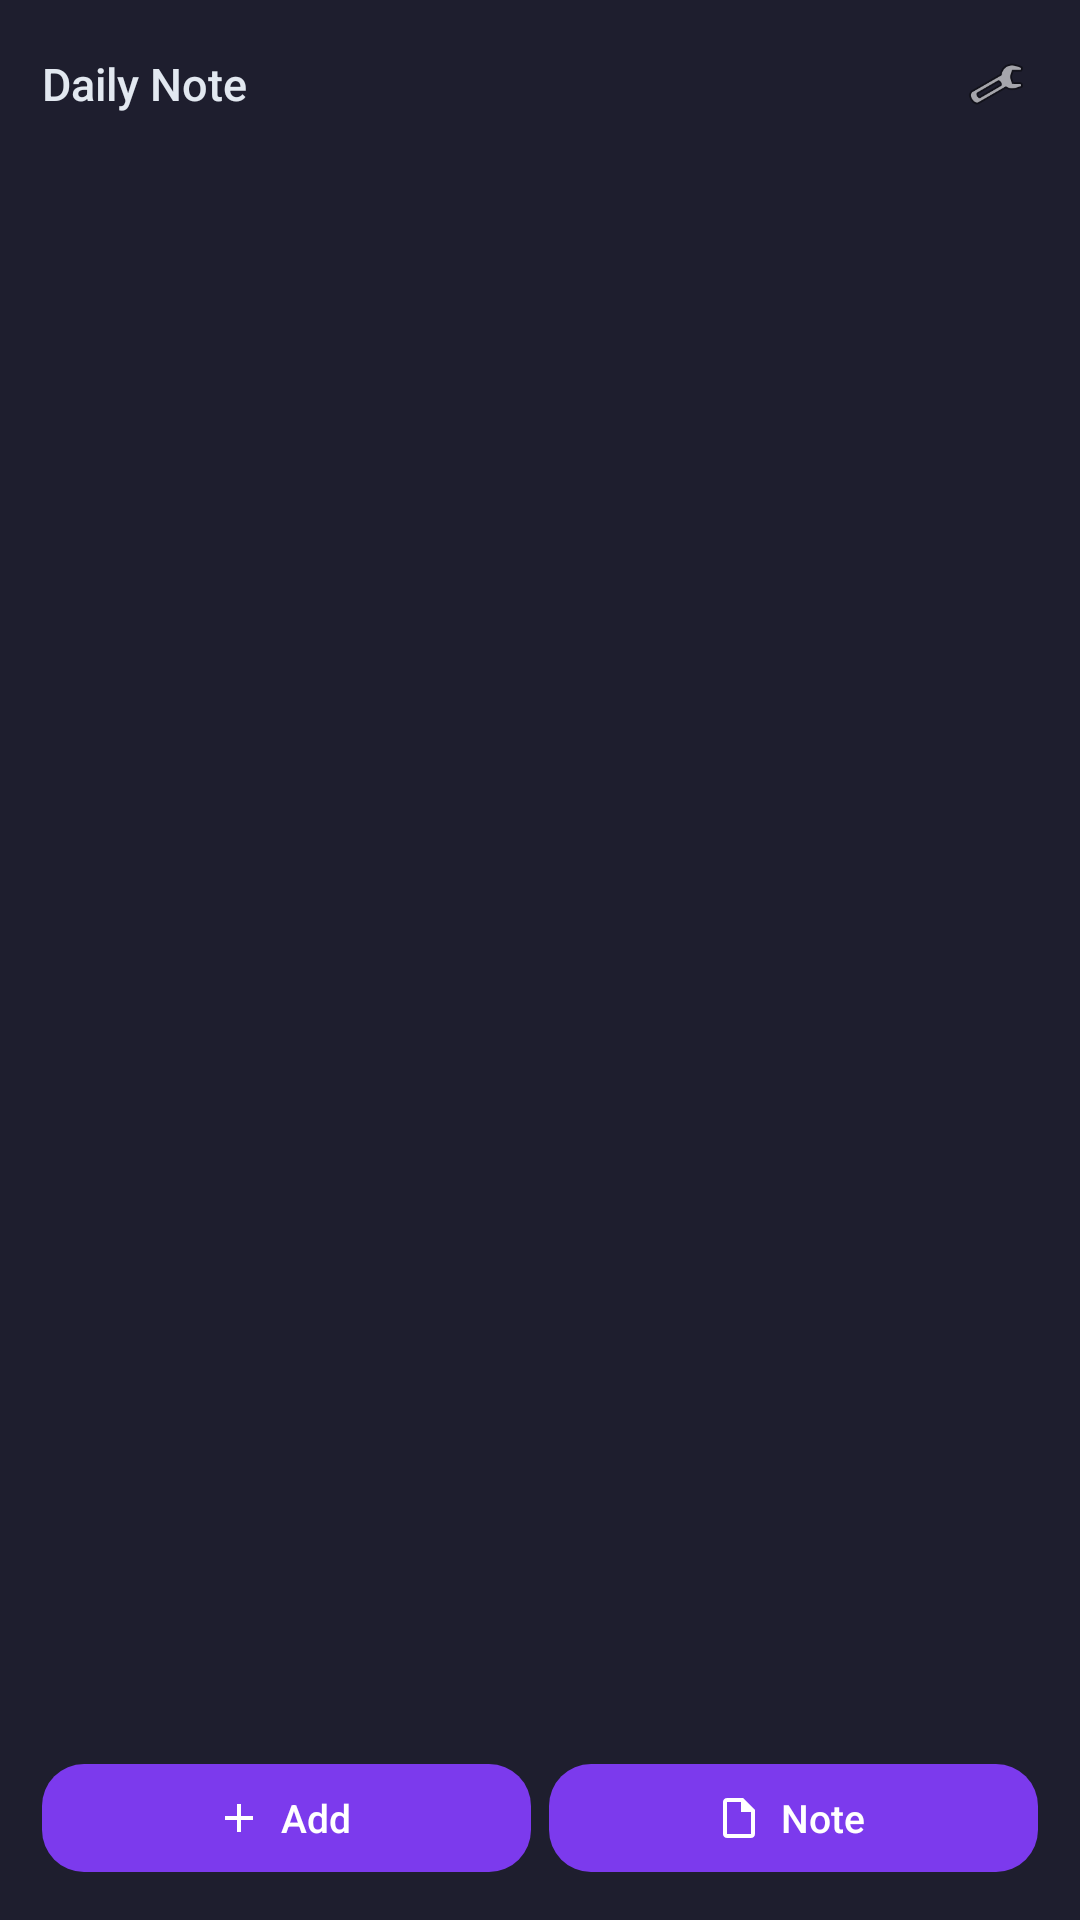

Point at icon controls on the screen. Image size 1080x1920, points as point (x, y).
Settings: point (996, 84)
